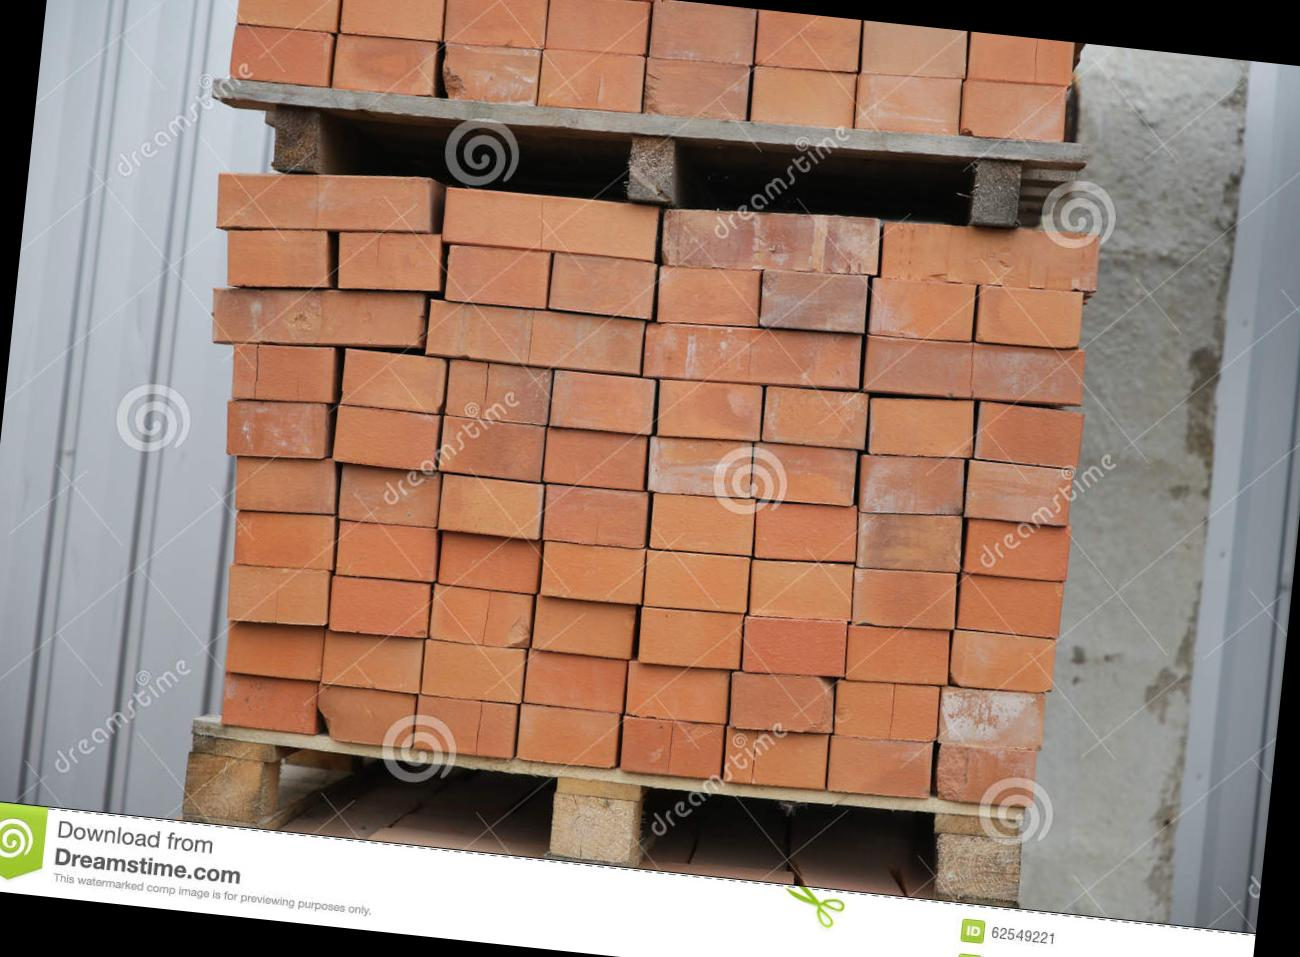brick: (214, 155, 435, 249), (879, 211, 1102, 300), (659, 196, 882, 285), (209, 273, 427, 361), (862, 328, 1086, 413), (642, 315, 863, 399), (441, 184, 659, 261), (426, 298, 645, 375), (223, 220, 335, 296), (856, 448, 968, 522), (866, 392, 977, 464), (751, 495, 861, 567), (334, 224, 443, 297), (747, 553, 856, 626), (758, 264, 870, 335), (854, 506, 966, 576), (726, 667, 838, 738), (854, 68, 964, 139), (850, 563, 961, 634), (231, 447, 340, 519), (936, 683, 1048, 753), (740, 611, 850, 681), (654, 376, 765, 445), (975, 282, 1084, 352), (229, 338, 338, 409), (649, 488, 757, 558), (655, 261, 763, 331), (221, 394, 329, 463), (867, 275, 976, 343), (963, 514, 1072, 582), (642, 546, 751, 615), (973, 403, 1085, 469), (225, 560, 332, 630), (645, 432, 755, 500), (832, 676, 942, 744), (542, 481, 650, 549), (540, 538, 648, 607), (637, 604, 745, 672), (539, 46, 647, 115), (340, 347, 449, 415), (844, 621, 953, 688), (965, 460, 1075, 527), (444, 241, 550, 310), (949, 628, 1058, 695), (751, 440, 858, 508), (649, 0, 759, 66), (762, 384, 870, 450), (332, 405, 440, 471), (956, 571, 1064, 638), (826, 732, 934, 799), (722, 724, 830, 790), (750, 65, 858, 131), (548, 252, 657, 318), (959, 78, 1068, 143), (445, 359, 552, 425), (438, 416, 545, 482), (619, 715, 726, 780), (643, 57, 750, 122), (421, 638, 526, 705), (754, 9, 862, 74), (549, 370, 657, 435), (437, 474, 544, 539), (532, 595, 637, 660), (335, 520, 441, 584), (625, 660, 731, 725), (859, 20, 970, 82), (337, 462, 441, 528), (517, 703, 621, 768), (232, 507, 337, 571), (413, 695, 518, 759), (333, 32, 438, 97), (934, 743, 1037, 809), (542, 427, 648, 491), (327, 575, 433, 639), (429, 584, 534, 648), (229, 24, 334, 88), (315, 683, 418, 748), (524, 648, 628, 712), (321, 629, 425, 693), (440, 41, 542, 105), (438, 532, 542, 594), (223, 621, 325, 680), (221, 674, 321, 735), (968, 31, 1075, 88), (545, 0, 650, 58), (442, 0, 549, 51), (339, 0, 447, 42), (235, 0, 341, 33)
